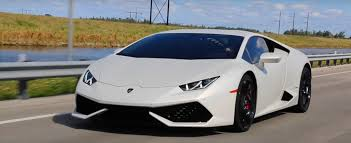Lamborghini: (78, 30, 304, 124)
